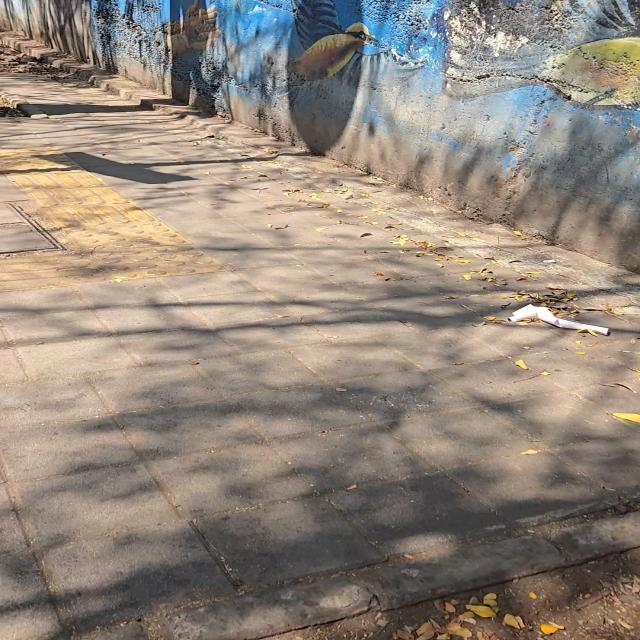vehicle: (0, 203, 64, 254)
